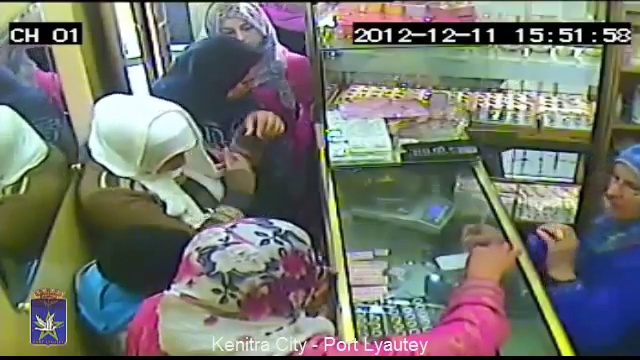face: (604, 156, 640, 218), (223, 56, 260, 108), (221, 6, 264, 43)
